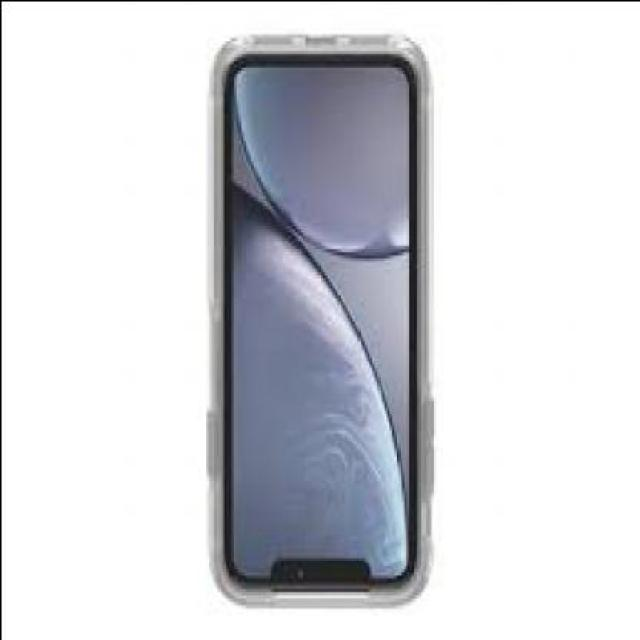phone: (207, 33, 430, 607)
